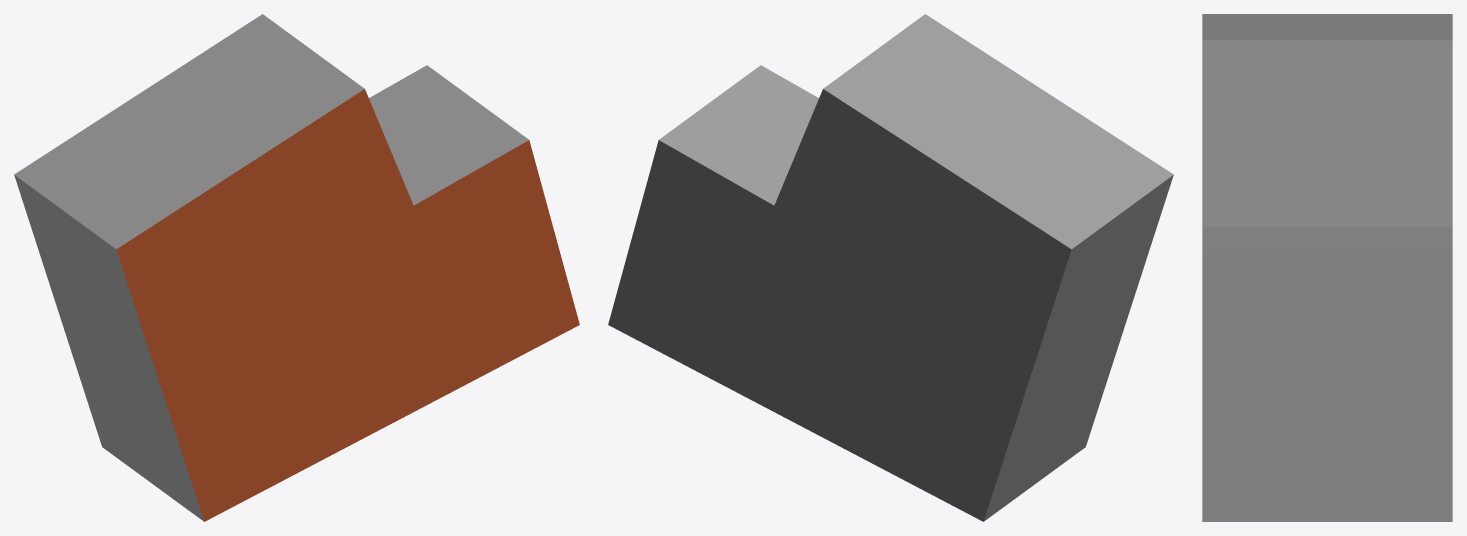
File: construction_2714_assumed_A_Casa_h6m.obj
The picture shows the model from 3 angles, left to right: view 1: azimuth 30°, elevation 25°; view 2: azimuth 150°, elevation 25°; view 3: azimuth 270°, elevation 25°; orthographic projection. The views are drawn at different scales.
Visible parts, largest first — view 1: construction_2714_assumed_A_Casa; view 2: construction_2714_assumed_A_Casa; view 3: construction_2714_assumed_A_Casa.
Boxes of the visible parts, x1,y1,x2,y2 form: construction_2714_assumed_A_Casa: (14, 14, 579, 521); construction_2714_assumed_A_Casa: (608, 14, 1173, 521); construction_2714_assumed_A_Casa: (1202, 14, 1452, 521).
Size of the model in its own units: 15.7 by 12.75 by 6.
